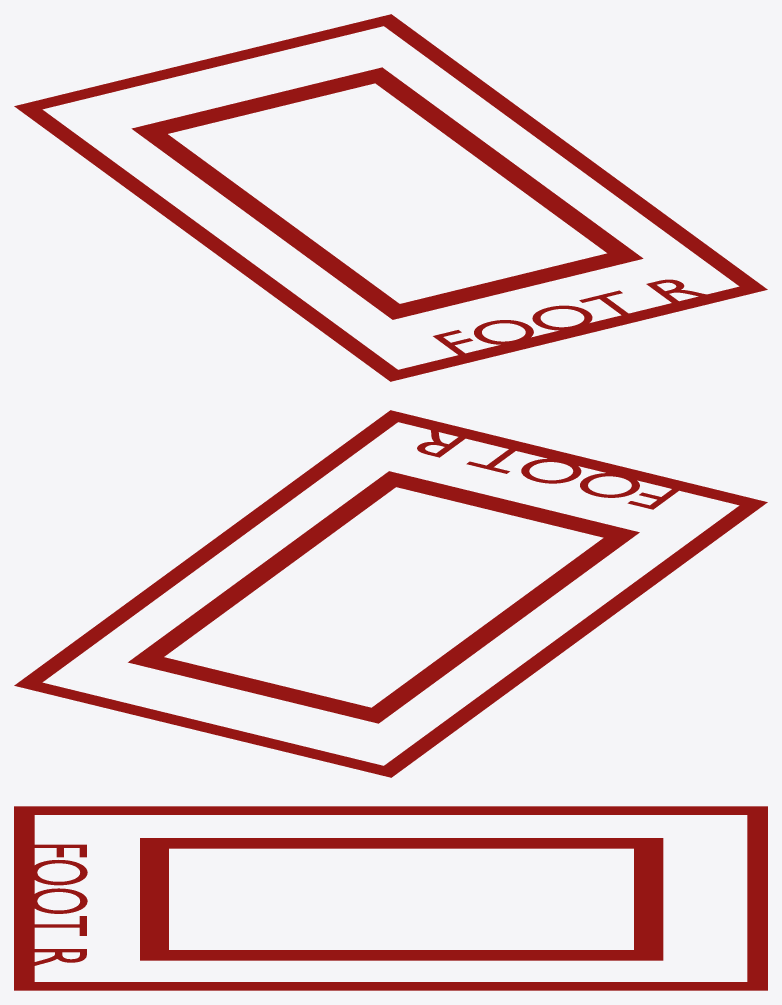
The model's file is Prefab_Mesh_FootR.fbx.
The picture shows the model from 3 angles, top to bottom: view 1: azimuth 30°, elevation 25°; view 2: azimuth 150°, elevation 25°; view 3: azimuth 270°, elevation 25°; orthographic projection.
Visible parts, largest first — view 1: FootR; view 2: FootR; view 3: FootR.
Boxes of the visible parts, x1,y1,x2,y2 form: FootR: [14, 14, 767, 381]; FootR: [14, 410, 767, 777]; FootR: [14, 806, 767, 990].
Bounding box in the file's own units: 22.79 × 2.64e-06 × 39.38.
